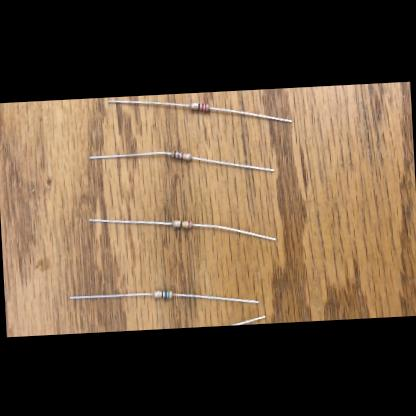resistor: (171, 148, 191, 159), (172, 218, 191, 227), (190, 101, 209, 110), (155, 290, 172, 298)
wire: (192, 217, 276, 242), (192, 150, 274, 174), (209, 101, 291, 124), (173, 286, 258, 304), (90, 212, 172, 228), (108, 94, 189, 110), (70, 290, 154, 298), (88, 150, 170, 158), (232, 312, 266, 324)
